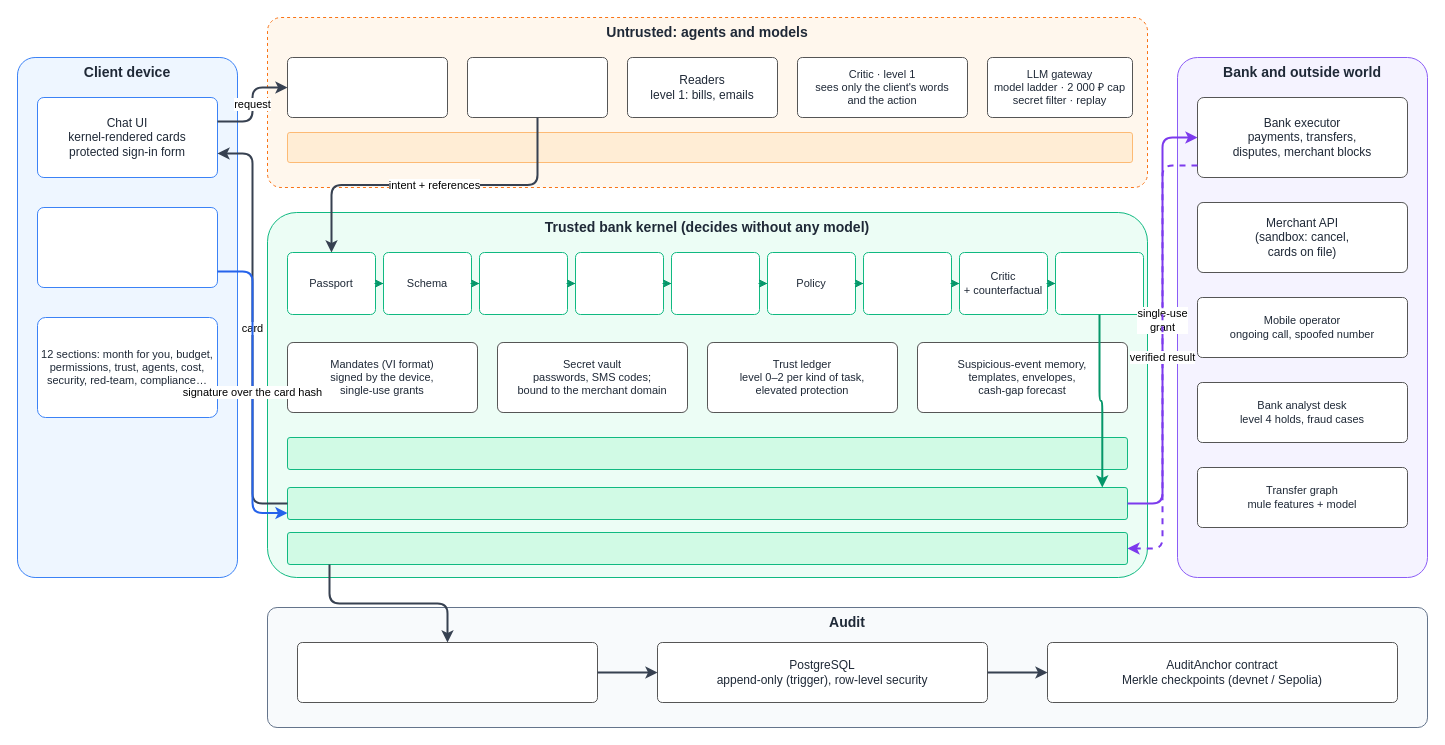
The diagram is 1445 pixels wide and 745 high, and some of its shapes have lost their labels. The centre of each missing label's shape, as x and y in pixels:
"Card = what the client sees = what the device signs (hash)" belongs at [707,503].
"Device key Ed25519 / P-256 (WebCrypto, non-extractable)" belongs at [127,247].
"Dispatcher level 0: rules, templates" belongs at [367,87].
"Mandate" belongs at [523,283].
"passport per agent (KYA): role, model, instruction hash, one task, session key" belongs at [709,147].
"Planner level 2 model" belongs at [537,87].
"Provenance CLIENT/BANK/ UNTRUSTED" belongs at [619,283].
"References" belongs at [715,283].
"Result check: bank records, merchant, inbox" belongs at [707,548].
"Risk graph · scam call" belongs at [907,283].
"Scam-call ladder: warn → pause → 24 h reversible hold → live analyst; duress PIN" belongs at [707,453].
"Shadow run" belongs at [1099,283].
"Signed hash-chained journal every decision, stage, passport" belongs at [447,672].
